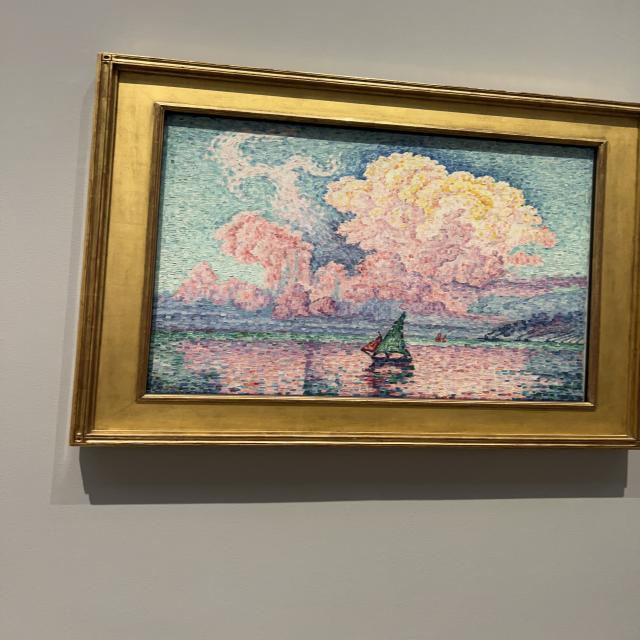sunrise: (149, 126, 592, 398)
